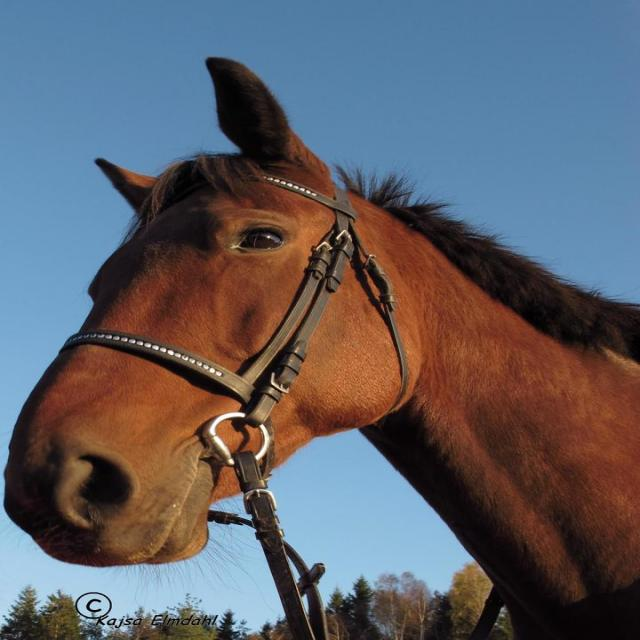Horse: (2, 56, 639, 640)
